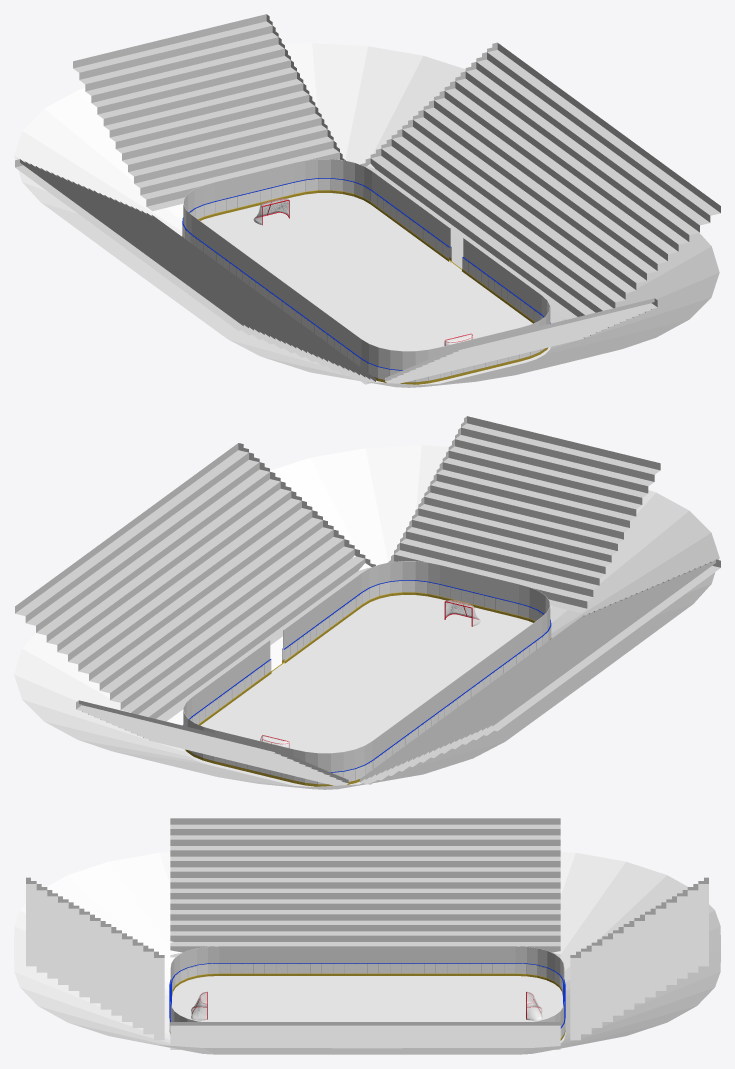
File: IceRink.glb
3 views of the same model, one above another, from view 1: azimuth 30°, elevation 25°; view 2: azimuth 150°, elevation 25°; view 3: azimuth 270°, elevation 25° (orthographic). The views are drawn at different scales.
Visible parts, largest first — view 1: stairs, stairs.003, Ice.001, Ice, Boards; view 2: stairs, stairs.003, Ice.001, Ice, Boards; view 3: stairs, Ice.001, stairs.003, Ice, Boards.
Boxes of the visible parts, bbox=[...] form: stairs: bbox=[15, 42, 720, 384]; stairs.003: bbox=[73, 14, 657, 383]; Ice.001: bbox=[14, 43, 719, 387]; Ice: bbox=[200, 193, 532, 351]; Boards: bbox=[182, 159, 550, 384]; stairs: bbox=[15, 443, 720, 784]; stairs.003: bbox=[76, 416, 660, 785]; Ice.001: bbox=[14, 445, 719, 789]; Ice: bbox=[201, 595, 532, 753]; Boards: bbox=[183, 561, 551, 786]; stairs: bbox=[170, 818, 560, 1049]; Ice.001: bbox=[14, 851, 720, 1054]; stairs.003: bbox=[26, 877, 708, 1040]; Ice: bbox=[172, 976, 562, 1021]; Boards: bbox=[169, 946, 565, 1040].
Bounding box in the file's own units: 32.14 × 7.03 × 46.7.
7 materials, 2 textured.
